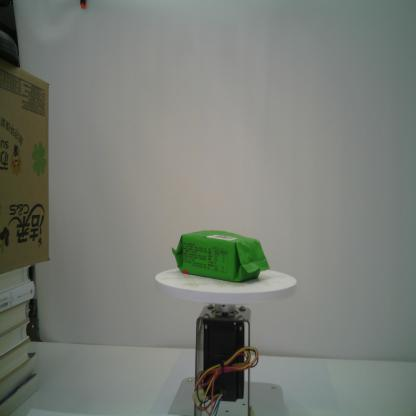Dessert: (172, 230, 270, 283)
